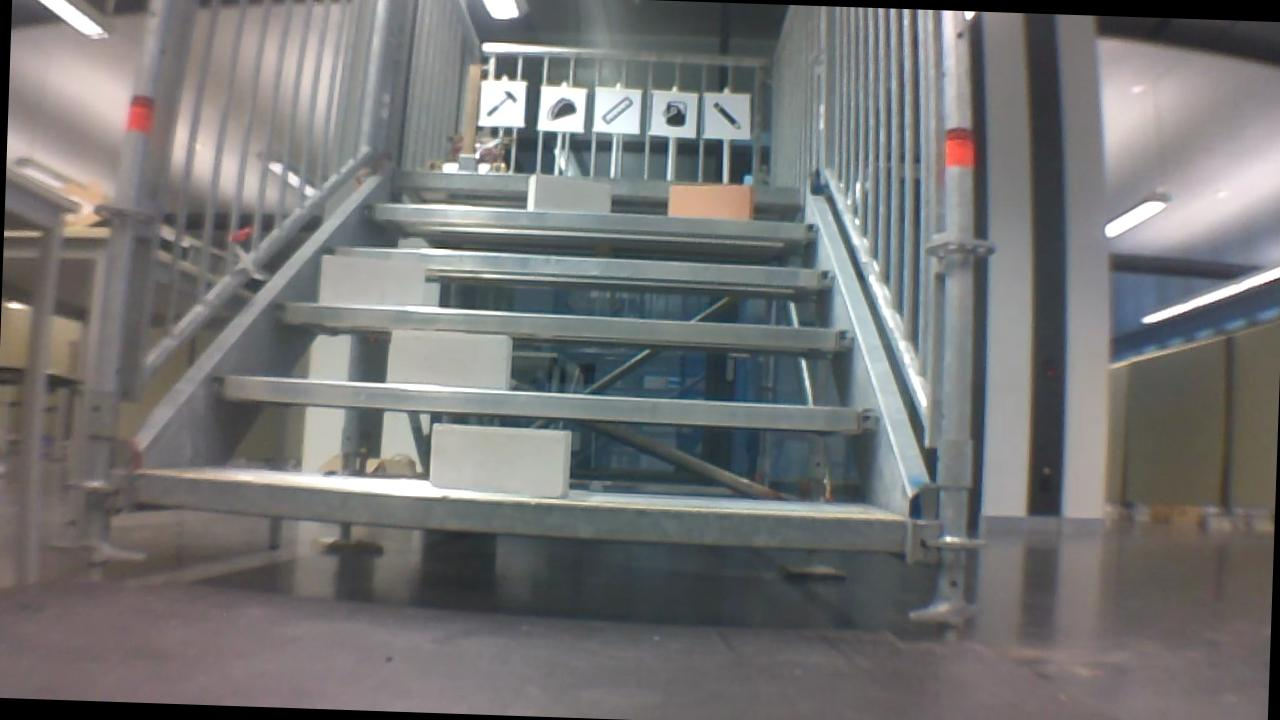brick: (428, 423, 567, 496), (390, 332, 513, 389), (321, 255, 423, 306), (529, 173, 611, 211), (669, 182, 752, 217)
bucket: (659, 96, 692, 130)
edge: (133, 473, 901, 551), (212, 375, 882, 432), (270, 302, 852, 350), (321, 245, 836, 290), (361, 201, 819, 239), (391, 169, 802, 203)
hammer: (481, 90, 519, 120)
pencil: (709, 96, 746, 132)
ruler: (595, 89, 637, 127)
steps: (124, 153, 918, 566)
taco: (540, 91, 579, 123)
